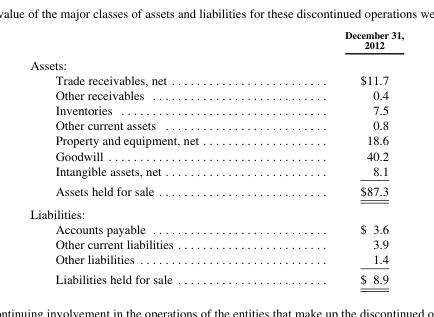table: (29, 28, 403, 286)
table column: (29, 28, 271, 286), (271, 28, 403, 286)
table column header: (29, 28, 403, 53)
table projected row header: (29, 201, 403, 220), (29, 53, 403, 71)
table row: (29, 28, 403, 53), (29, 180, 403, 201), (29, 201, 403, 220), (29, 53, 403, 71), (29, 162, 403, 180), (29, 268, 403, 286), (29, 251, 403, 268), (29, 71, 403, 87), (29, 220, 403, 236), (29, 87, 403, 102), (29, 102, 403, 117), (29, 117, 403, 132), (29, 132, 403, 147), (29, 147, 403, 162), (29, 236, 403, 251)
